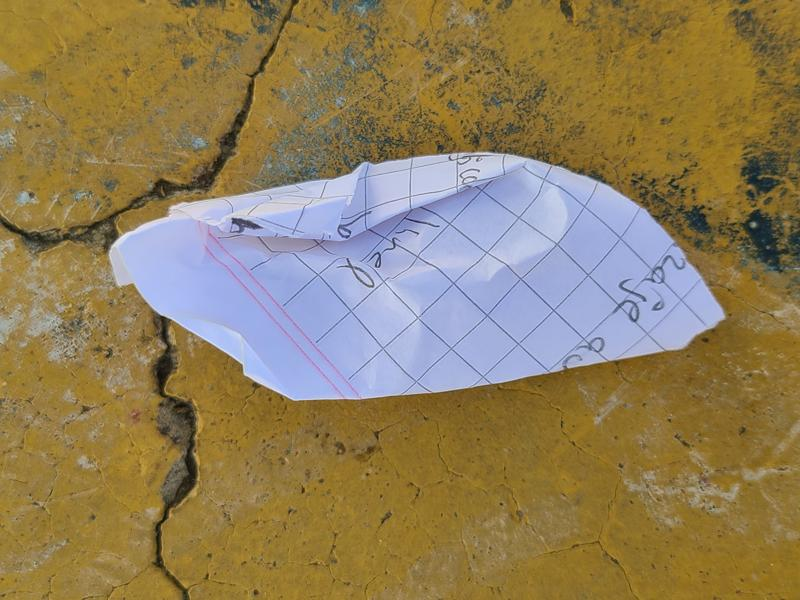papel: (107, 153, 727, 403)
